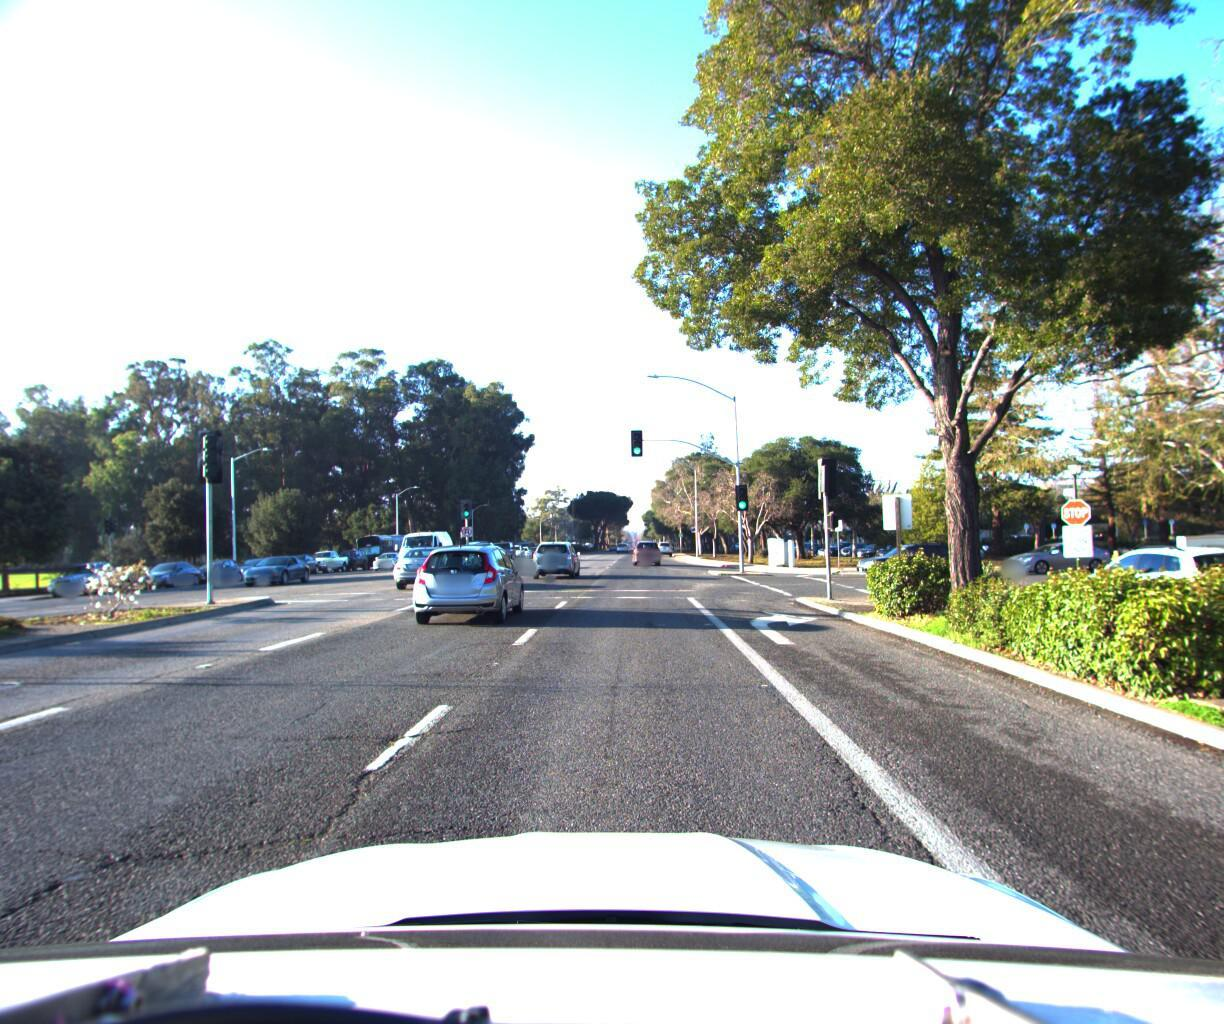bus: (351, 528, 412, 567)
car: (1052, 536, 1224, 649), (407, 540, 529, 628), (847, 536, 961, 576), (993, 534, 1112, 571), (41, 558, 144, 598), (392, 541, 471, 588), (236, 551, 312, 585), (136, 558, 207, 590), (530, 535, 580, 575), (189, 555, 245, 584), (302, 545, 350, 573), (330, 543, 369, 569), (371, 546, 408, 566), (630, 536, 659, 560)
other_vehicle: (390, 524, 455, 571)
